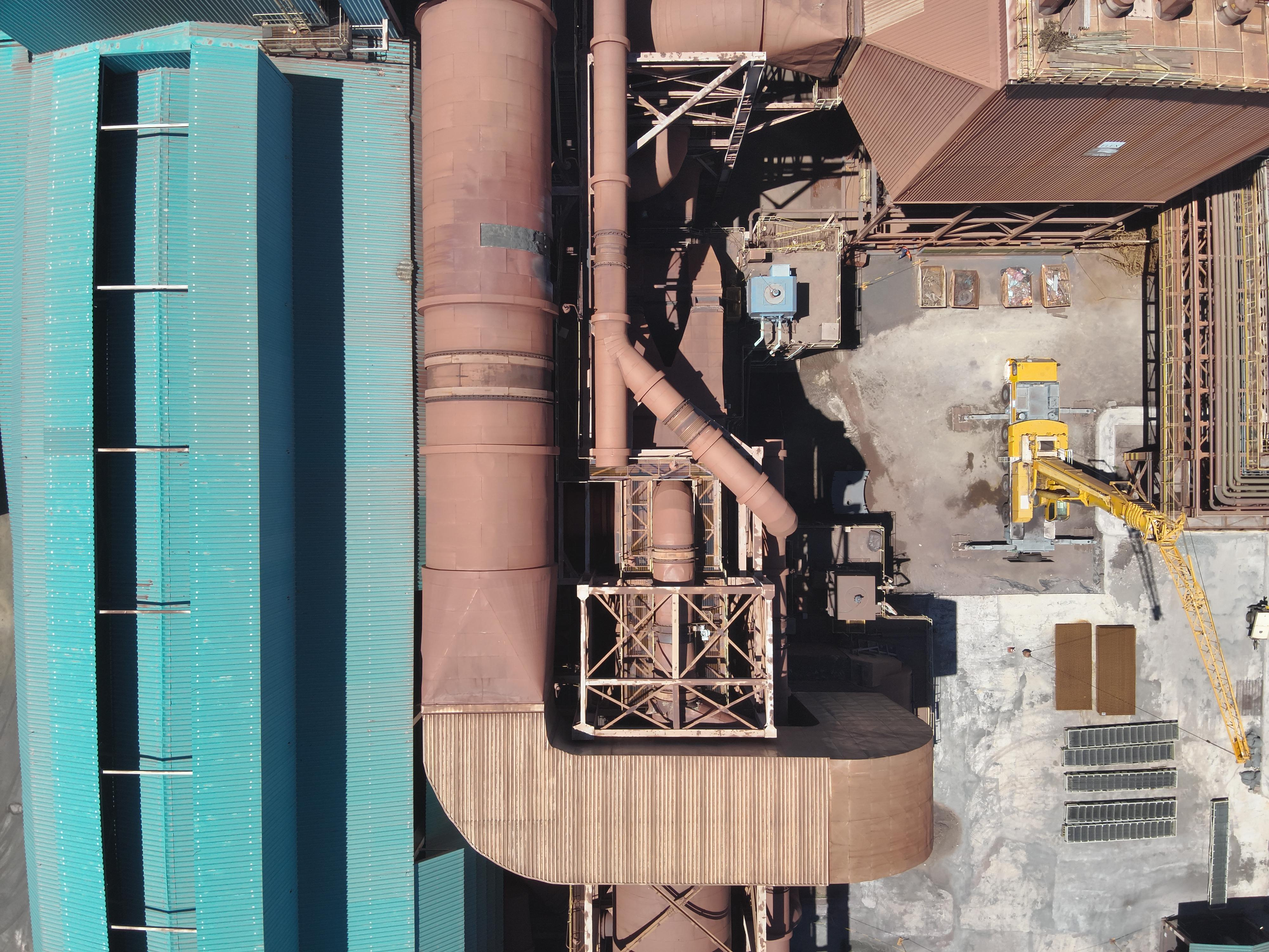Failures: (478, 220, 555, 257)
